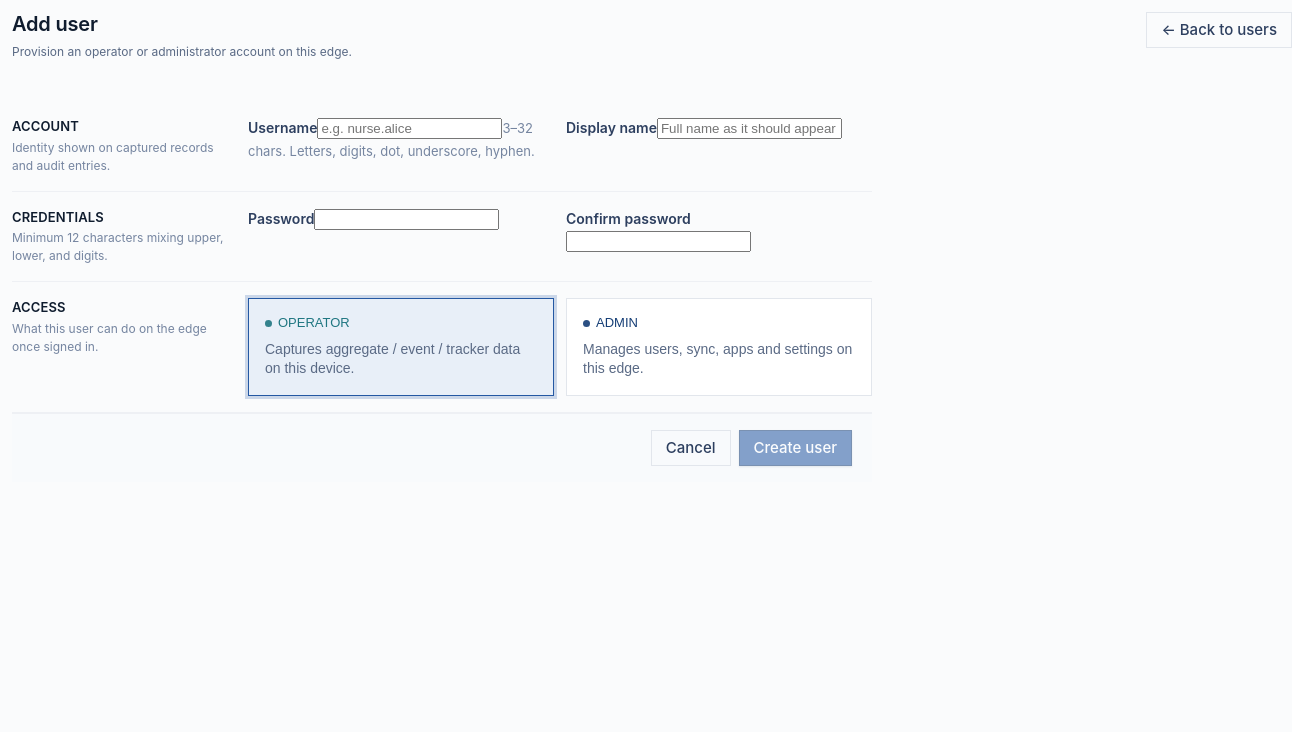
Test case: EA-03 UserCreate › error
The image size is (1292, 732).
In the field with test id "ea03-username": (410,128) [318, 118, 502, 139], type "alice"
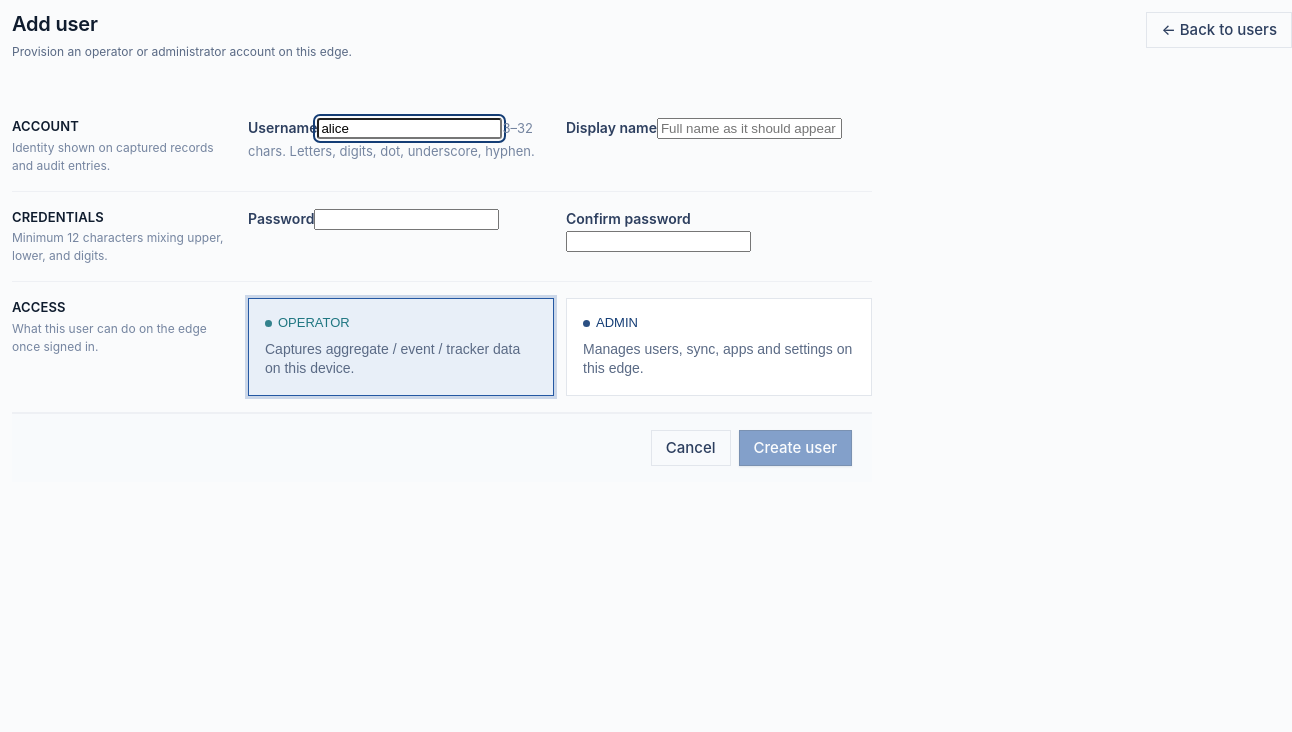
In the field with test id "ea03-display": (749,128) [657, 118, 842, 139], type "Alice"
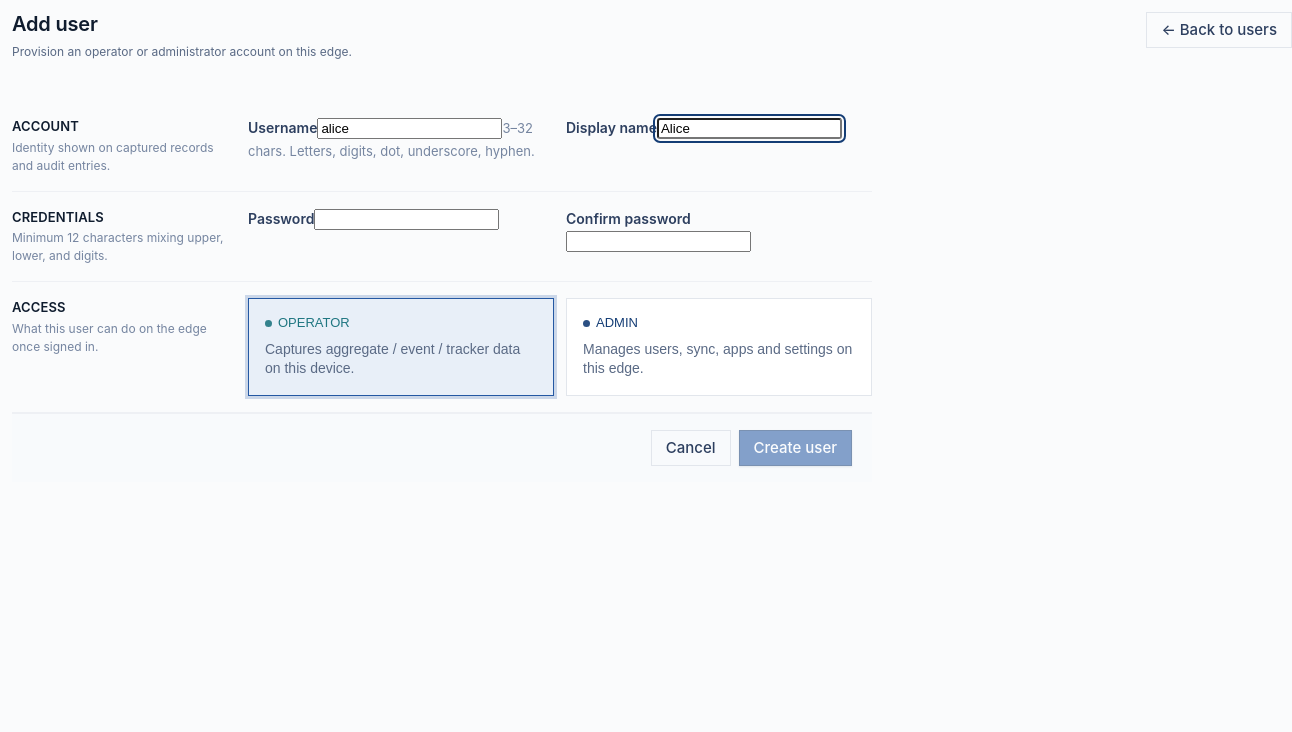
In the password field with test id "ea03-password": (407,219) [314, 208, 499, 230], type "Password1234"
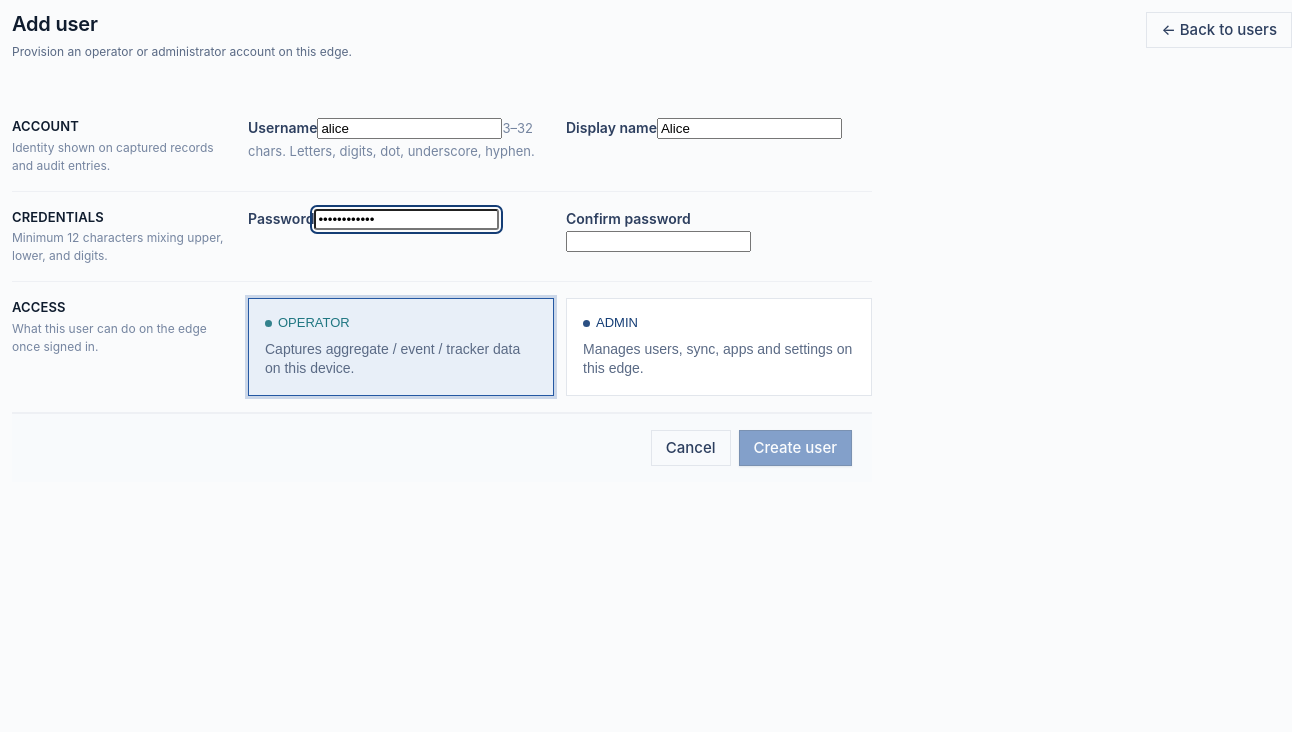
In the password field with test id "ea03-confirm": (658,242) [566, 231, 751, 252], type "Password1234"
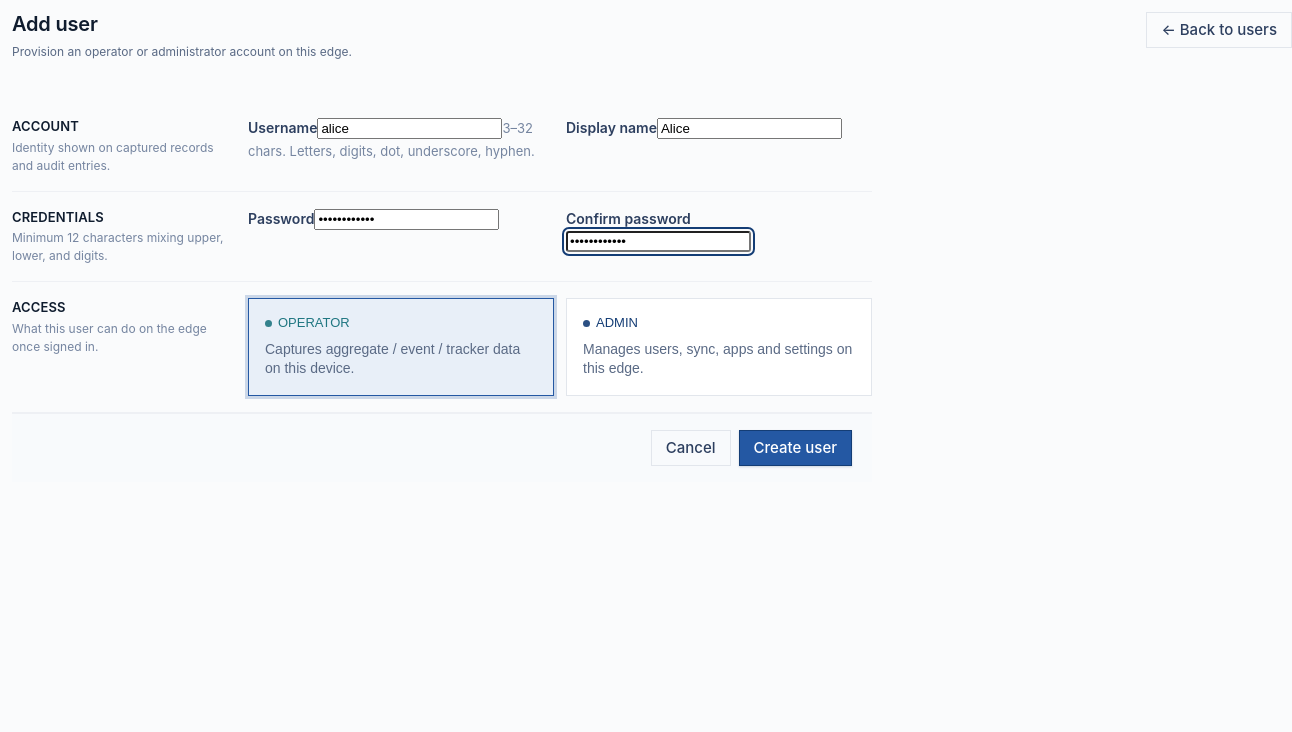
Click the button with test id "ea03-submit": (795,448) [738, 430, 852, 466]
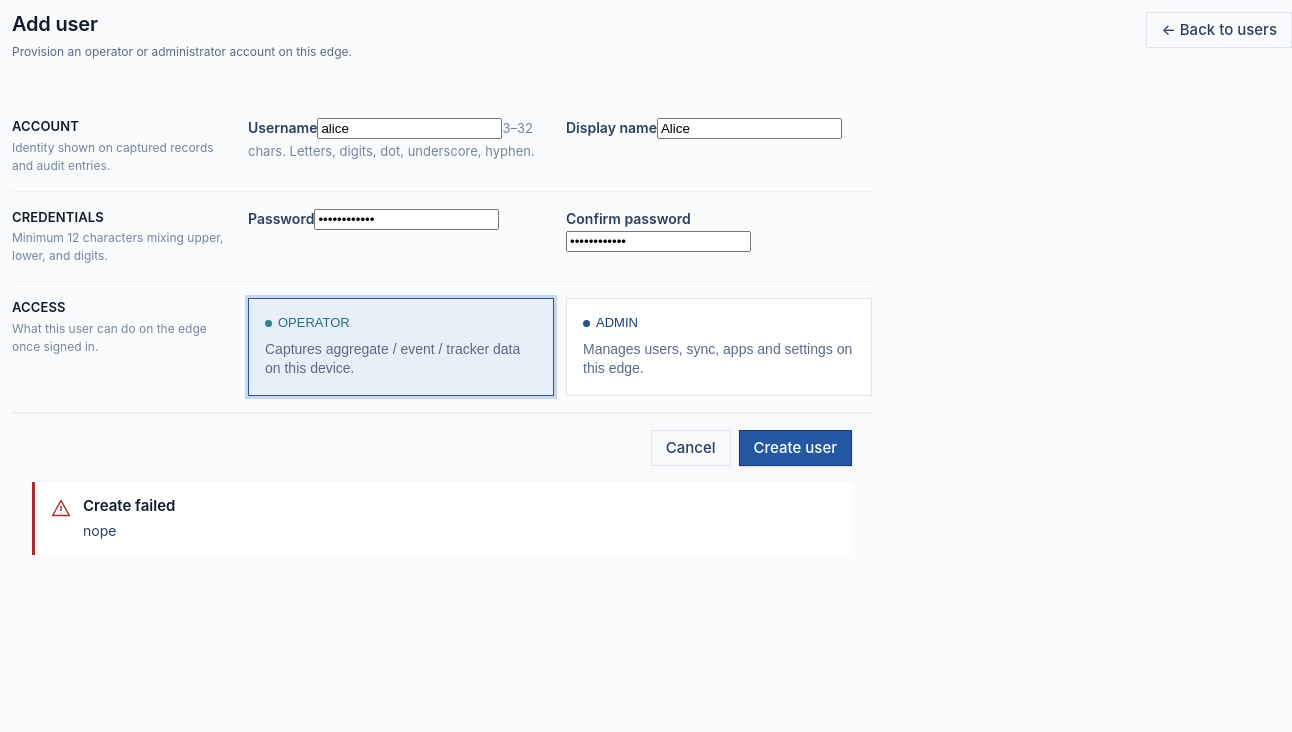
Expected: the message "Create failed nope" is shown, [32, 482, 852, 555]
